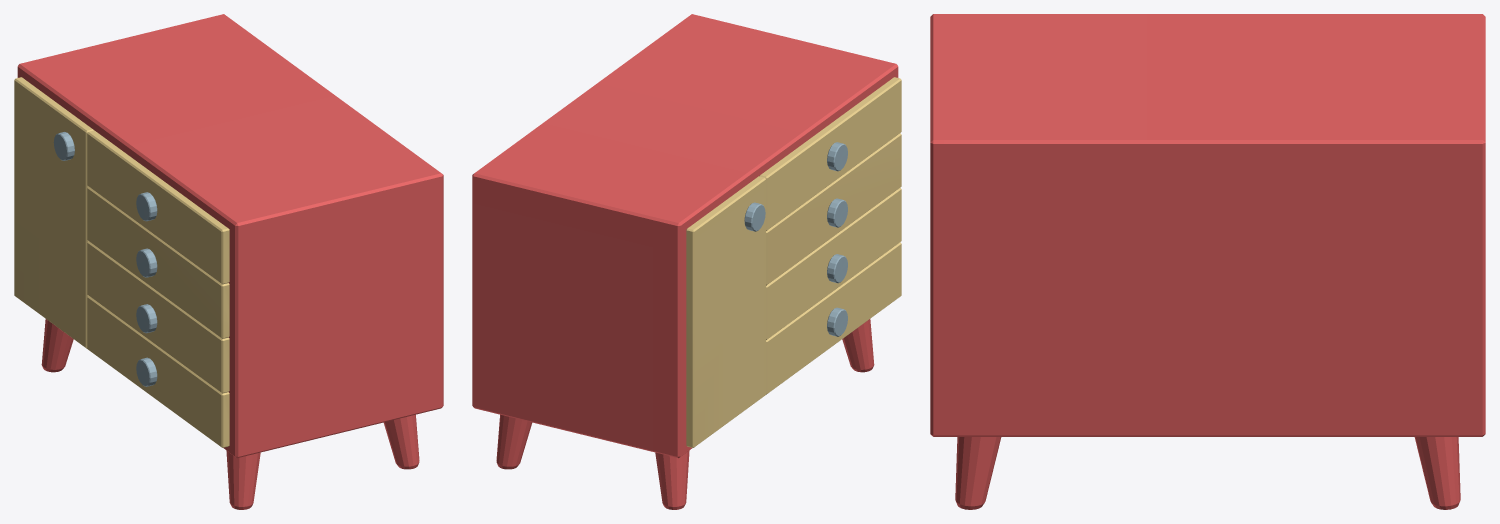
Rendered from pasted__Shelf_03.fbx.
3 views of the same model, side by side, from view 1: azimuth 30°, elevation 25°; view 2: azimuth 150°, elevation 25°; view 3: azimuth 270°, elevation 25° (orthographic). The views are drawn at different scales.
Visible parts, largest first — view 1: pasted__Shelf_03; view 2: pasted__Shelf_03; view 3: pasted__Shelf_03.
Part boxes in pixels (left/top/right/bottom): pasted__Shelf_03: left=14, top=14, right=443, bottom=509; pasted__Shelf_03: left=472, top=14, right=901, bottom=509; pasted__Shelf_03: left=930, top=14, right=1485, bottom=509.
Size of the model in its own units: 68.38 by 86.53 by 115.
Materials: 1 (1 with a texture image).
